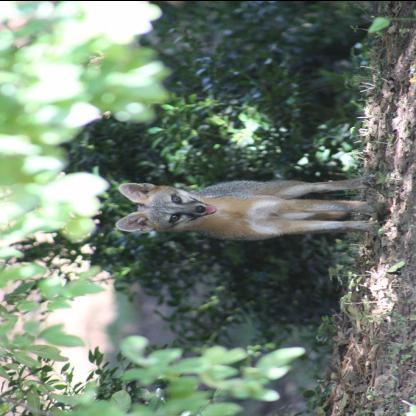zorro: (112, 171, 386, 247)
